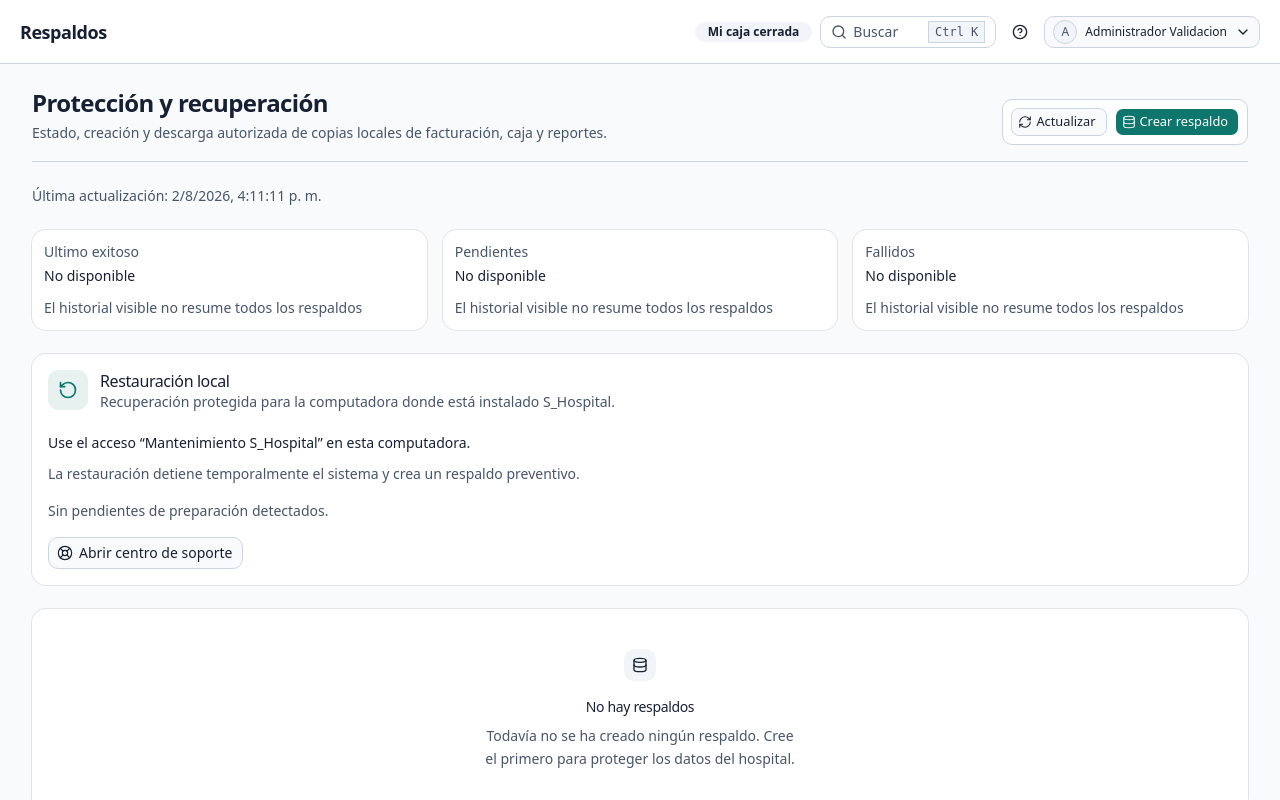
Scenario: App › creates a manual backup from the admin backups view
This screenshot has width=1280, height=800.
Click the button "Crear respaldo" at (1177, 122), box [1114,108,1239,136]
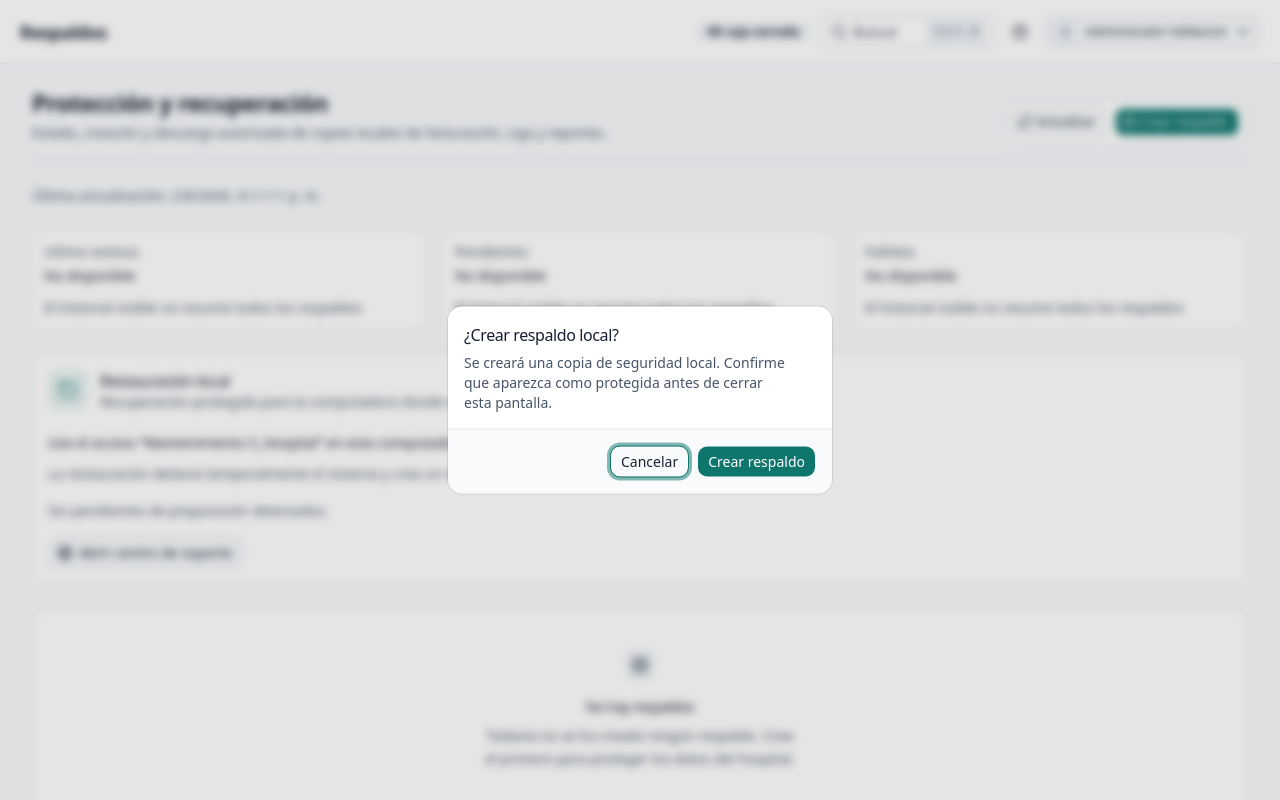
Click the button "Crear respaldo" at (757, 462), box [697,446,816,478]
(page scrolled)
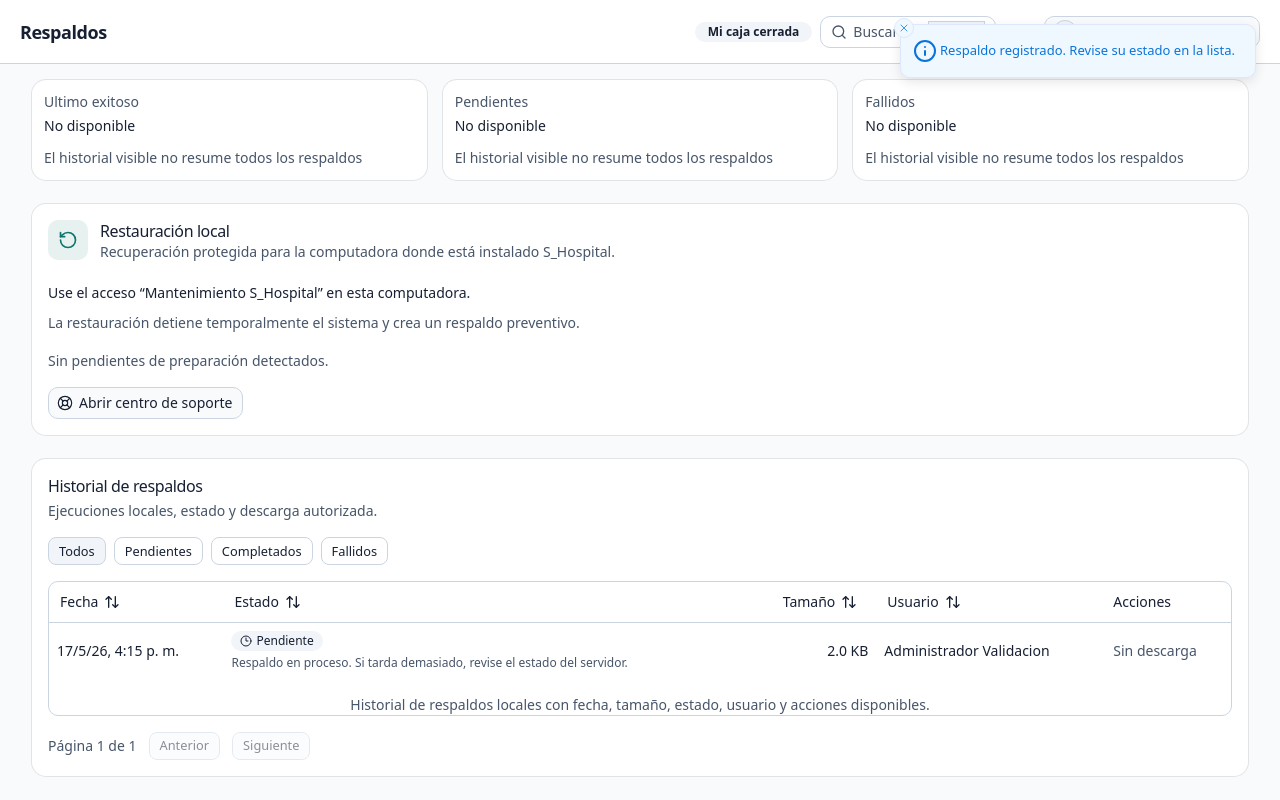
expect the element "Historial de respaldos locales" is shown: met, box [48,581,1232,716]
